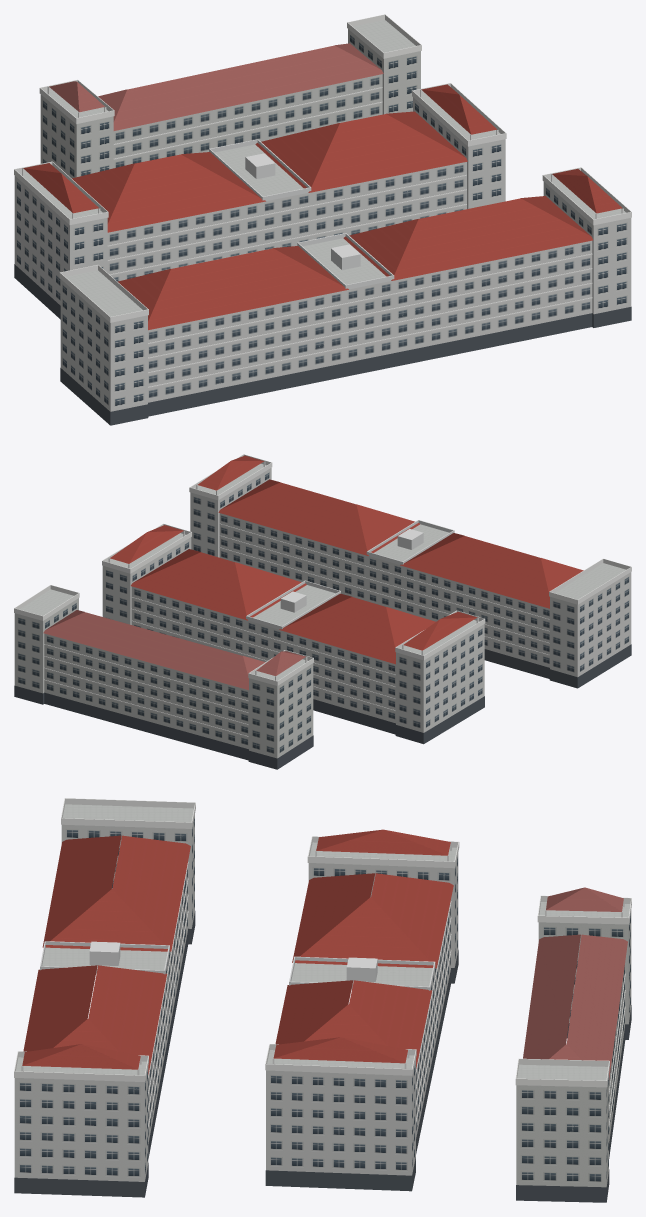
Rendered from dorm_wenyuan_a2.glb.
The picture shows the model from 3 angles, top to bottom: view 1: azimuth 30°, elevation 25°; view 2: azimuth 150°, elevation 25°; view 3: azimuth 270°, elevation 25°; orthographic projection. The views are drawn at different scales.
Parts seen in each view (by area): view 1: 1245446262, 1245446261, 862959378; view 2: 1245446262, 1245446261, 862959378; view 3: 1245446261, 1245446262, 862959378.
Boxes of the visible parts, x1=… form: 1245446262: x1=59, y1=167, x2=631, y2=425; 1245446261: x1=14, y1=83, x2=506, y2=319; 862959378: x1=39, y1=14, x2=421, y2=178; 1245446262: x1=189, y1=454, x2=631, y2=688; 1245446261: x1=102, y1=523, x2=485, y2=744; 862959378: x1=14, y1=585, x2=313, y2=769; 1245446261: x1=265, y1=829, x2=459, y2=1191; 1245446262: x1=14, y1=798, x2=195, y2=1197; 862959378: x1=515, y1=887, x2=631, y2=1202.
Size of the model in its own units: 115 by 26.8 by 106.
Materials: 4 (3 with a texture image).
